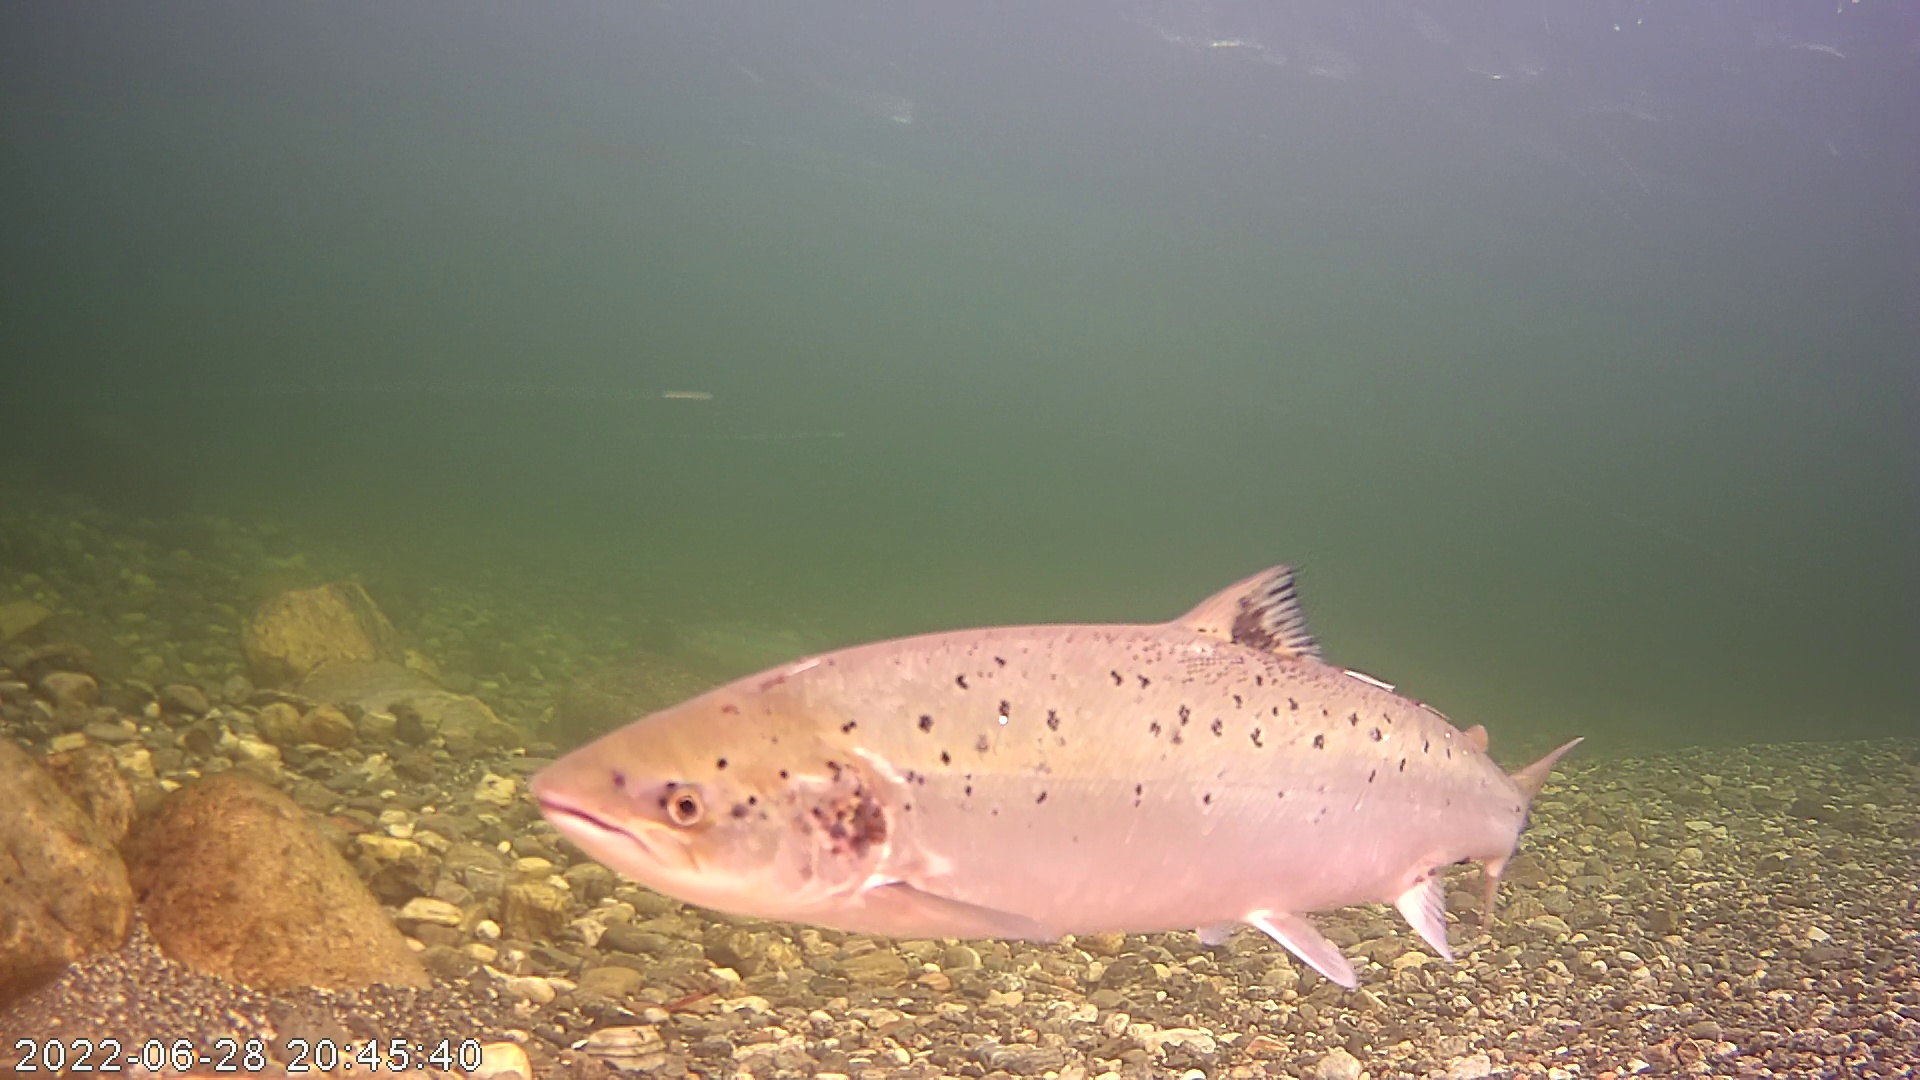salmon: (506, 516, 1548, 953)
